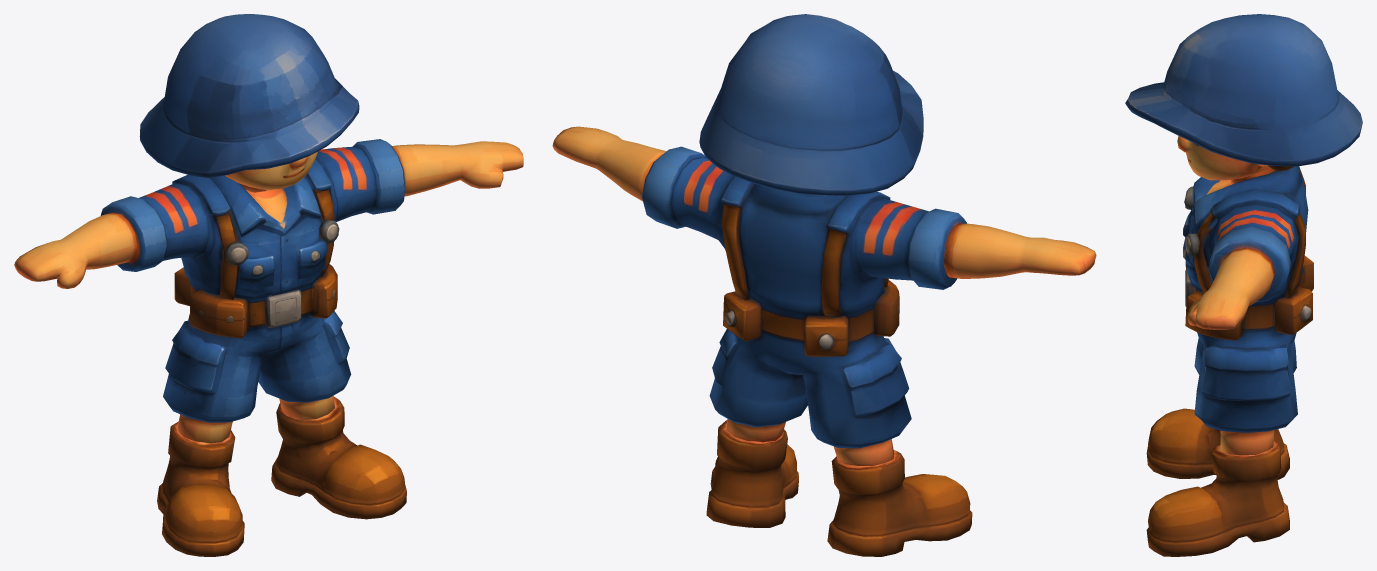
File: infantry-rifleman-body.glb
3 views of the same model, side by side, from view 1: azimuth 30°, elevation 25°; view 2: azimuth 150°, elevation 25°; view 3: azimuth 270°, elevation 25° (orthographic). The views are drawn at different scales.
Parts seen in each view (by area): view 1: tripo_node_623defd5-e746-46a0-8048-5ac73d3b24fa; view 2: tripo_node_623defd5-e746-46a0-8048-5ac73d3b24fa; view 3: tripo_node_623defd5-e746-46a0-8048-5ac73d3b24fa.
Part boxes in pixels (box(x1,y1,x2,y2)): tripo_node_623defd5-e746-46a0-8048-5ac73d3b24fa: box(14, 14, 523, 556); tripo_node_623defd5-e746-46a0-8048-5ac73d3b24fa: box(552, 14, 1096, 556); tripo_node_623defd5-e746-46a0-8048-5ac73d3b24fa: box(1125, 14, 1362, 556).
Size of the model in its own units: 1.75 by 1.6 by 0.7161.
1 material, 1 textured.
